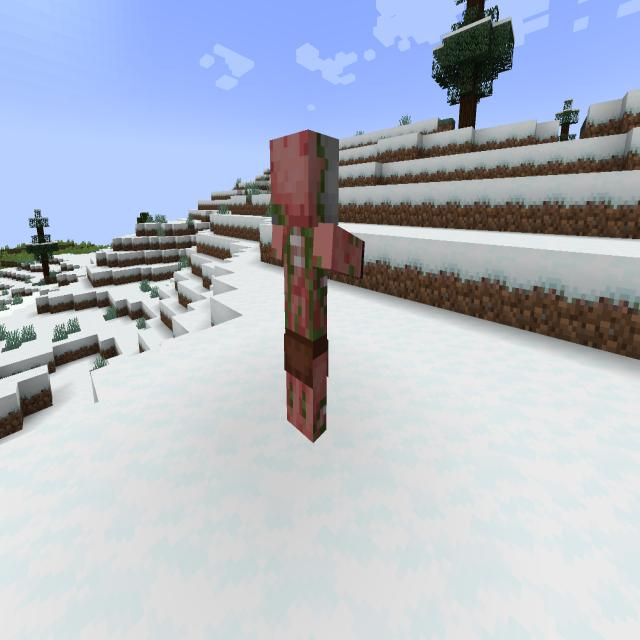Zombified Piglin: (262, 120, 369, 454)
